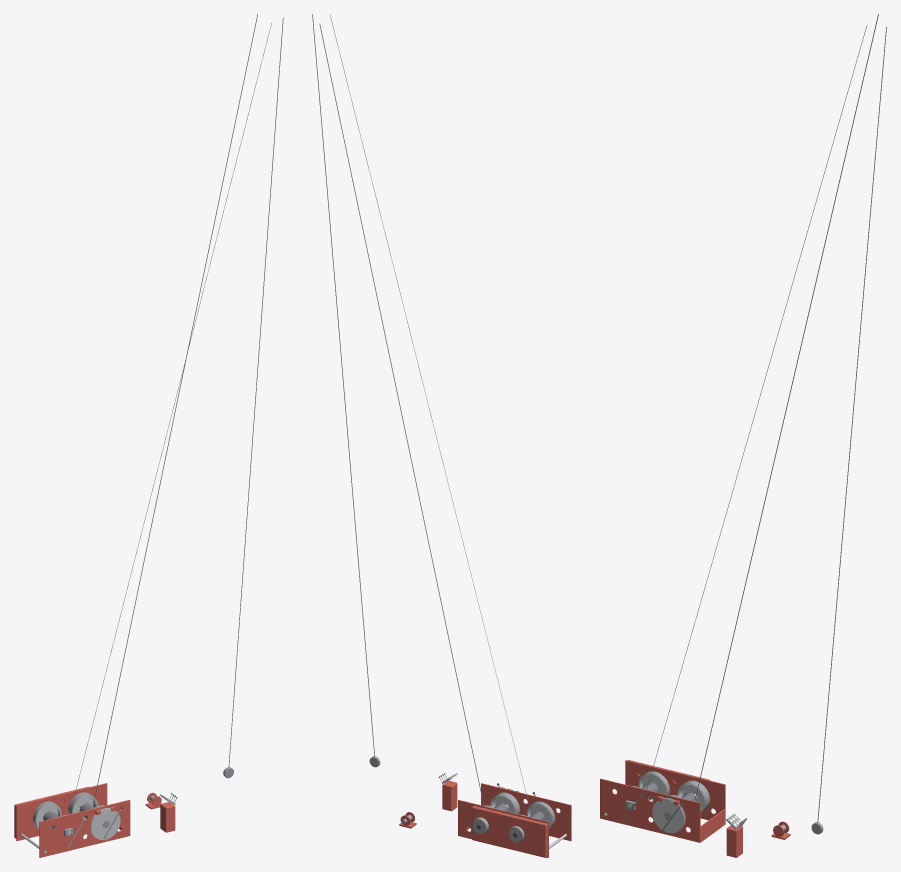
The model's file is sk575_cuadro.glb.
The picture shows the model from 3 angles, left to right: view 1: azimuth 30°, elevation 25°; view 2: azimuth 150°, elevation 25°; view 3: azimuth 330°, elevation 25°; orthographic projection. The views are drawn at different scales.
Parts seen in each view (by area): view 1: sk575_cuadro_rojo, sk575_cuadro_cable, sk575_cuadro_acero, sk575_cuadro_acero_oscuro; view 2: sk575_cuadro_rojo, sk575_cuadro_cable, sk575_cuadro_acero_oscuro, sk575_cuadro_acero; view 3: sk575_cuadro_rojo, sk575_cuadro_cable, sk575_cuadro_acero, sk575_cuadro_acero_oscuro.
Part boxes in pixels (box(x1,y1,x2,y2)): sk575_cuadro_rojo: box(14, 783, 177, 857); sk575_cuadro_cable: box(43, 14, 283, 827); sk575_cuadro_acero: box(21, 794, 176, 853); sk575_cuadro_acero_oscuro: box(33, 767, 233, 847); sk575_cuadro_rojo: box(399, 773, 571, 857); sk575_cuadro_cable: box(312, 14, 544, 820); sk575_cuadro_acero_oscuro: box(369, 756, 555, 842); sk575_cuadro_acero: box(439, 774, 566, 848); sk575_cuadro_rojo: box(600, 760, 790, 857); sk575_cuadro_cable: box(641, 14, 886, 822); sk575_cuadro_acero: box(604, 773, 745, 833); sk575_cuadro_acero_oscuro: box(622, 771, 823, 834).
Bounding box in the file's own units: 10.57 × 31.02 × 2.57.
